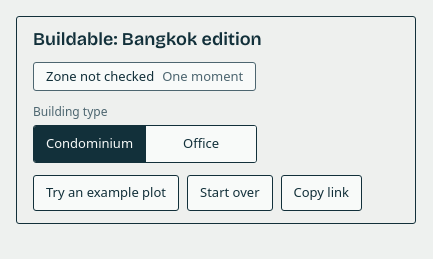
Scenario: focus after a control disappears › moves focus to the example plots control after "Start over"
The image size is (433, 259).
Step 1. Click the button "Start over" → (230, 193), box [187,175,272,211]
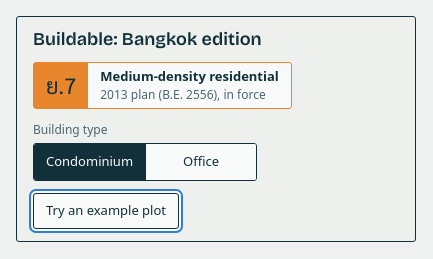
Expected: the button "Start over" is gone
